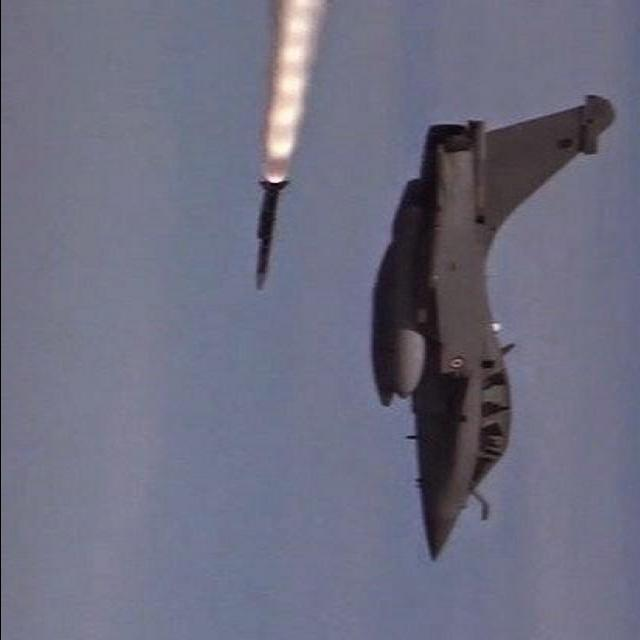missile: (254, 178, 287, 288)
